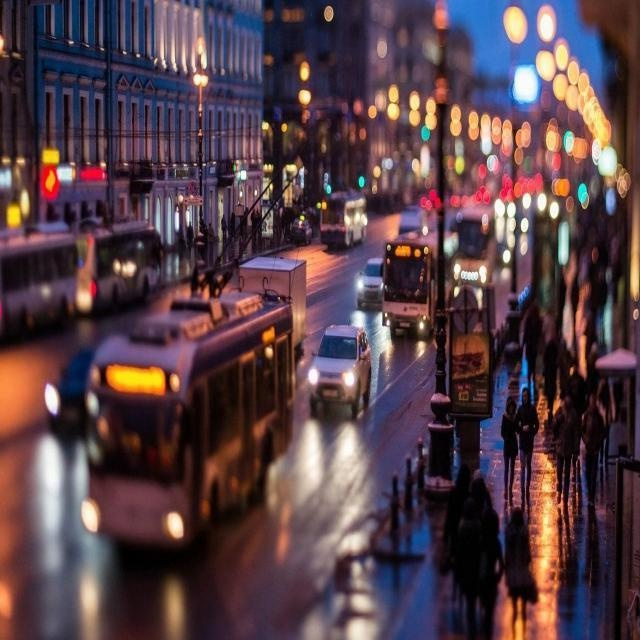bus: (49, 292, 300, 574), (364, 222, 448, 338)
car: (306, 320, 377, 442)
